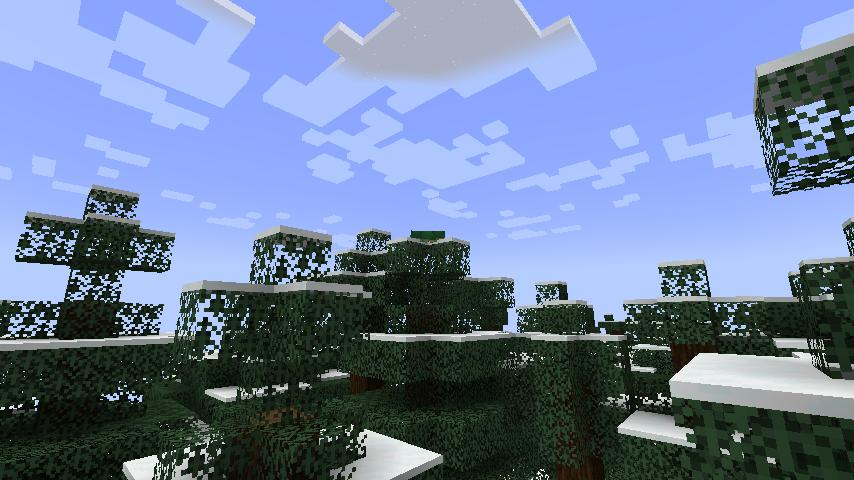turtle: (407, 227, 448, 246)
